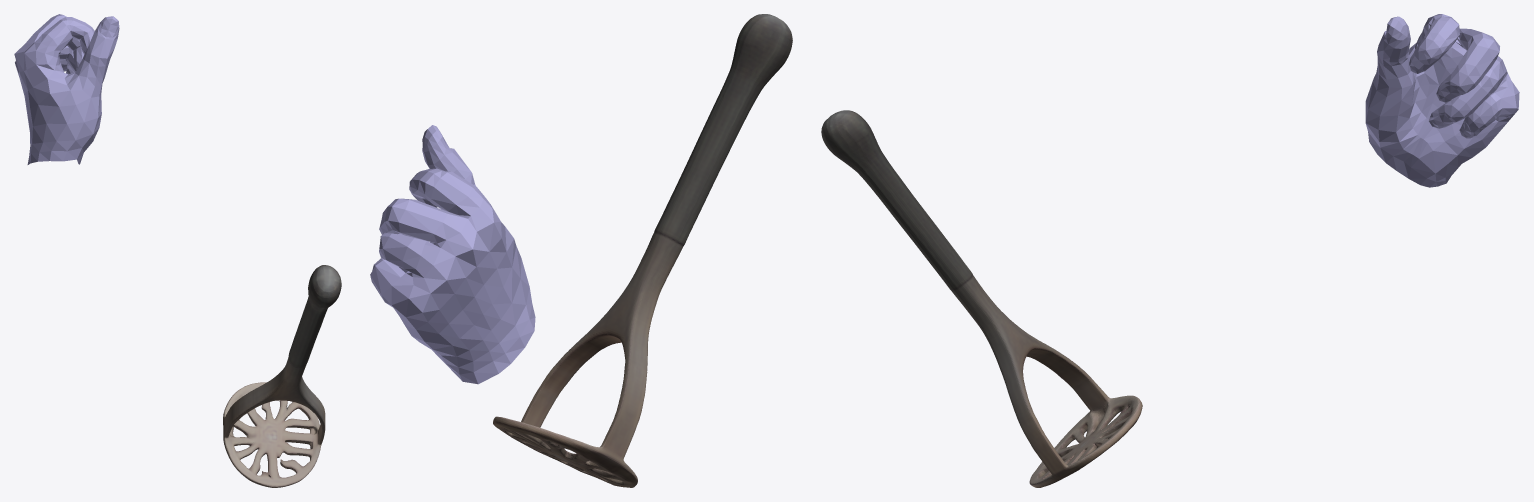
File: frame_0004_source_000004_hand_object.glb
The picture shows the model from 3 angles, left to right: view 1: azimuth 30°, elevation 25°; view 2: azimuth 150°, elevation 25°; view 3: azimuth 270°, elevation 25°; orthographic projection. The views are drawn at different scales.
Visible parts, largest first — view 1: world; view 2: world; view 3: world.
Part boxes in pixels (x1,y1,x2,y2): world: (14,14,341,487); world: (370,14,792,487); world: (821,14,1519,487).
Bounding box in the file's own units: 0.1256 × 0.2925 × 0.4125.
